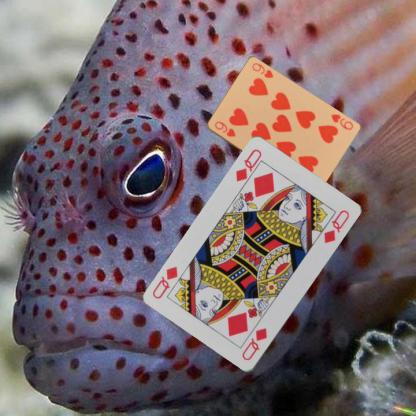9h: (211, 119, 237, 138), (328, 112, 354, 131)
Qd: (233, 147, 264, 190), (239, 326, 269, 362)
